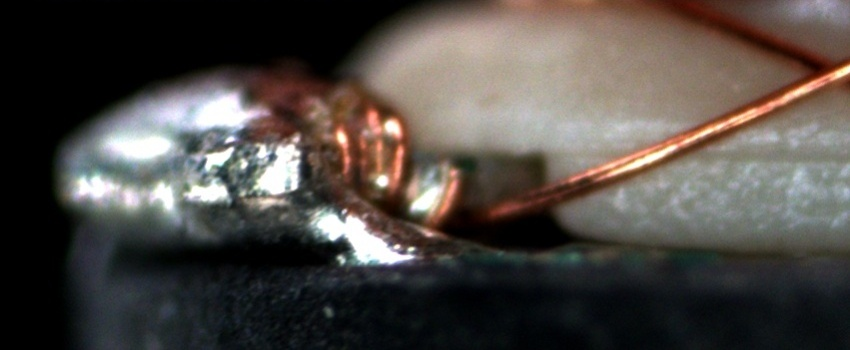CL: (774, 40, 848, 102)
DL: (562, 122, 849, 186)
TE: (326, 93, 472, 238)
